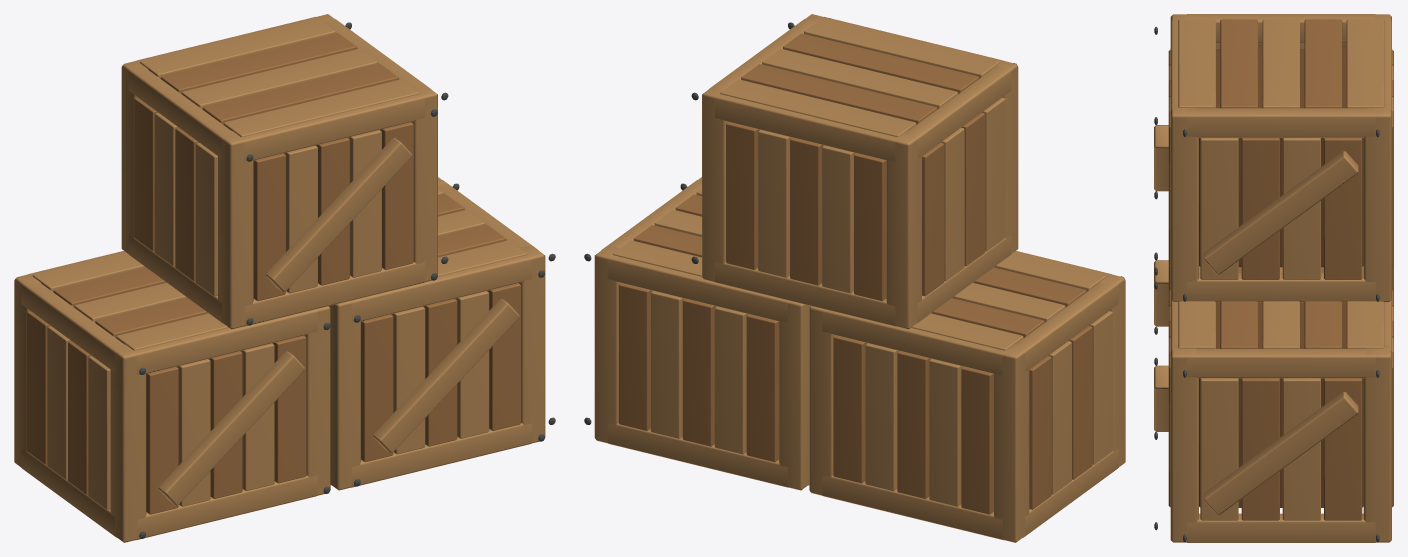
File: caixotes_medievais.glb
3 renders of one model, left to right at view 1: azimuth 30°, elevation 25°; view 2: azimuth 150°, elevation 25°; view 3: azimuth 270°, elevation 25°, orthographic.
Visible parts, largest first — view 1: Caixote inferior esquerdo | montante -1 -1, Caixote superior | montante -1 -1, Caixote inferior direito | montante -1 -1, Caixote superior | travessa diagonal frontal, Caixote inferior esquerdo | travessa diagonal frontal, Caixote inferior direito | travessa diagonal frontal, Caixote superior | travessa longa 1.1624999999999999 -1, Caixote inferior esquerdo | travessa longa 0.5625 -1, Caixote inferior direito | travessa longa 0.5625 -1, Caixote inferior direito | montante 1 -1, Caixote superior | tábua frontal -1 1, Caixote inferior esquerdo | tábua frontal -1 1 (+47 smaller); view 2: Caixote inferior esquerdo | montante -1 1, Caixote superior | montante -1 1, Caixote inferior direito | montante -1 1, Caixote superior | travessa longa 1.1624999999999999 1, Caixote inferior esquerdo | tábua frontal 1 3, Caixote inferior direito | tábua frontal 1 4, Caixote inferior direito | tábua frontal 1 5, Caixote inferior esquerdo | tábua frontal 1 4, Caixote inferior esquerdo | tábua frontal 1 2, Caixote inferior esquerdo | tábua frontal 1 5, Caixote inferior direito | tábua frontal 1 2, Caixote inferior direito | tábua frontal 1 3 (+44 smaller); view 3: Caixote superior | travessa lateral 1.1624999999999999 1, Caixote inferior direito | travessa lateral 0.5625 1, Caixote inferior direito | montante 1 -1, Caixote inferior direito | montante 1 1, Caixote superior | montante 1 -1, Caixote superior | montante 1 1, Caixote superior | travessa diagonal lateral, Caixote inferior direito | travessa diagonal lateral, Caixote inferior direito | tábua lateral 1 4, Caixote inferior direito | tábua lateral 1 1, Caixote superior | tábua lateral 1 4, Caixote superior | tábua lateral 1 1 (+30 smaller).
Boxes of the visible parts, <box> form: Caixote inferior esquerdo | montante -1 -1: <box>110,344,146,542</box>; Caixote superior | montante -1 -1: <box>218,131,253,329</box>; Caixote inferior direito | montante -1 -1: <box>329,301,360,490</box>; Caixote superior | travessa diagonal frontal: <box>266,138,412,292</box>; Caixote inferior esquerdo | travessa diagonal frontal: <box>158,351,304,505</box>; Caixote inferior direito | travessa diagonal frontal: <box>373,299,519,453</box>; Caixote superior | travessa longa 1.1624999999999999 -1: <box>237,93,425,161</box>; Caixote inferior esquerdo | travessa longa 0.5625 -1: <box>136,309,317,375</box>; Caixote inferior direito | travessa longa 0.5625 -1: <box>350,256,532,322</box>; Caixote inferior direito | montante 1 -1: <box>519,245,545,443</box>; Caixote superior | tábua frontal -1 1: <box>253,153,285,301</box>; Caixote inferior esquerdo | tábua frontal -1 1: <box>146,367,178,514</box>; Caixote inferior esquerdo | montante -1 1: <box>993,344,1029,542</box>; Caixote superior | montante -1 1: <box>886,131,921,329</box>; Caixote inferior direito | montante -1 1: <box>779,301,810,490</box>; Caixote superior | travessa longa 1.1624999999999999 1: <box>714,93,902,161</box>; Caixote inferior esquerdo | tábua frontal 1 3: <box>897,351,931,498</box>; Caixote inferior direito | tábua frontal 1 4: <box>650,291,684,438</box>; Caixote inferior direito | tábua frontal 1 5: <box>618,283,652,430</box>; Caixote inferior esquerdo | tábua frontal 1 4: <box>865,343,899,491</box>; Caixote inferior esquerdo | tábua frontal 1 2: <box>929,359,963,506</box>; Caixote inferior esquerdo | tábua frontal 1 5: <box>833,335,867,483</box>; Caixote inferior direito | tábua frontal 1 2: <box>714,306,748,454</box>; Caixote inferior direito | tábua frontal 1 3: <box>682,299,716,446</box>; Caixote superior | travessa lateral 1.1624999999999999 1: <box>1186,108,1375,137</box>; Caixote inferior direito | travessa lateral 0.5625 1: <box>1186,349,1375,378</box>; Caixote inferior direito | montante 1 -1: <box>1170,345,1198,542</box>; Caixote inferior direito | montante 1 1: <box>1363,345,1391,542</box>; Caixote superior | montante 1 -1: <box>1170,108,1198,302</box>; Caixote superior | montante 1 1: <box>1363,108,1391,302</box>; Caixote superior | travessa diagonal lateral: <box>1204,151,1358,274</box>; Caixote inferior direito | travessa diagonal lateral: <box>1204,391,1358,514</box>; Caixote inferior direito | tábua lateral 1 4: <box>1324,378,1362,520</box>; Caixote inferior direito | tábua lateral 1 1: <box>1200,378,1238,520</box>; Caixote superior | tábua lateral 1 4: <box>1324,138,1362,279</box>; Caixote superior | tábua lateral 1 1: <box>1200,138,1238,279</box>.
Size of the model in its own units: 1.48 by 1.21 by 0.6935.
